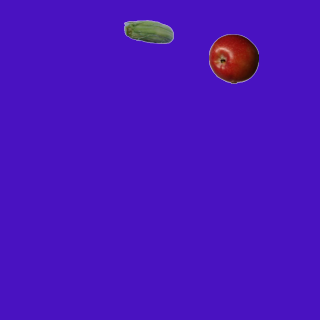Apple Braeburn: (208, 33, 258, 83)
Corn Husk: (123, 8, 173, 58)
